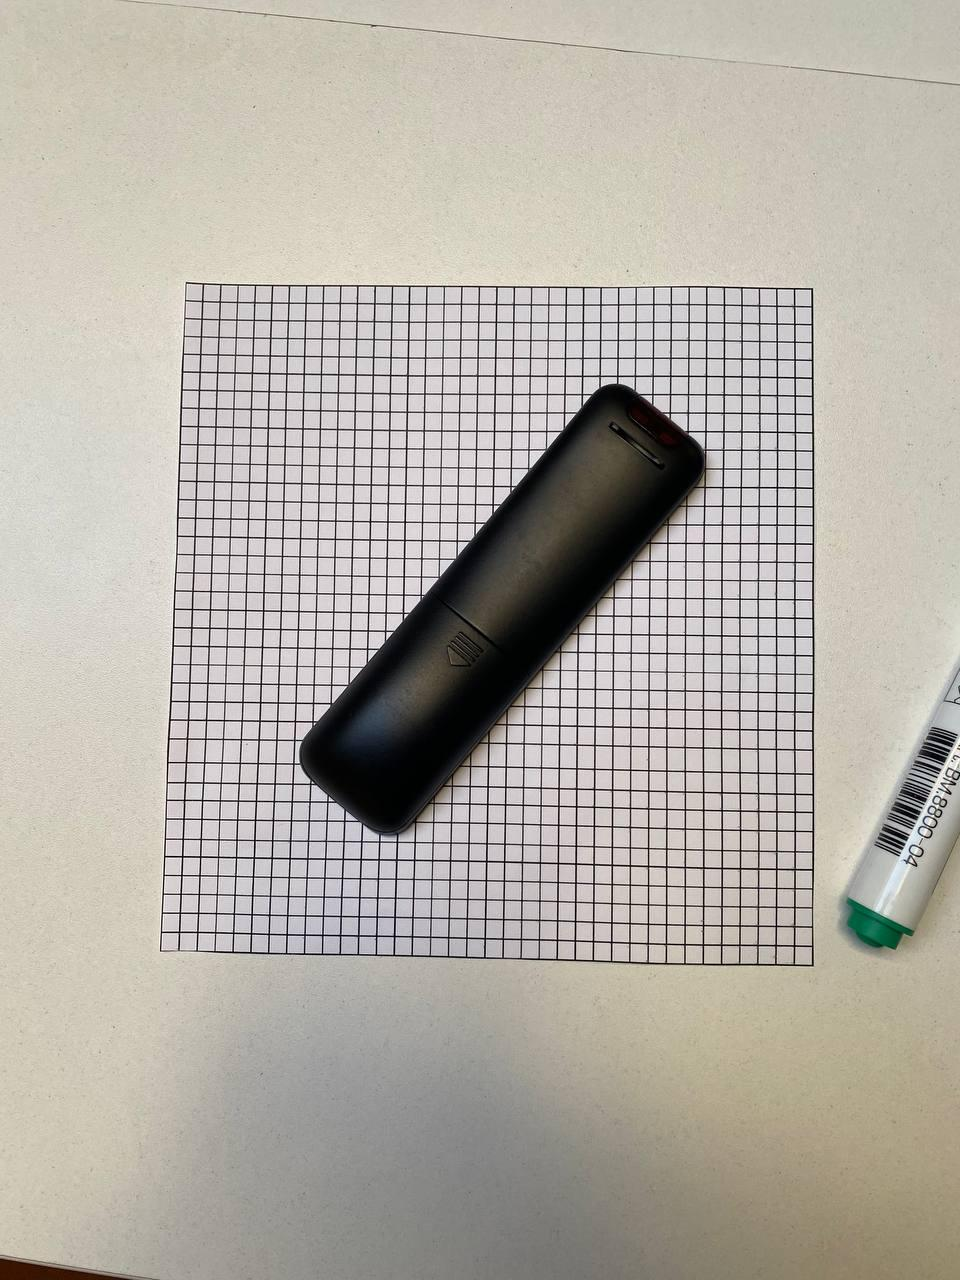grid: (136, 272, 827, 980)
